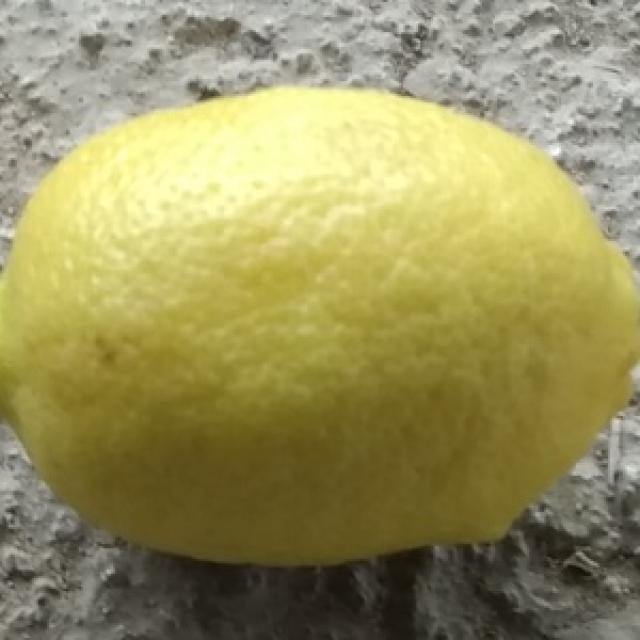Ripe: (0, 80, 640, 571)
